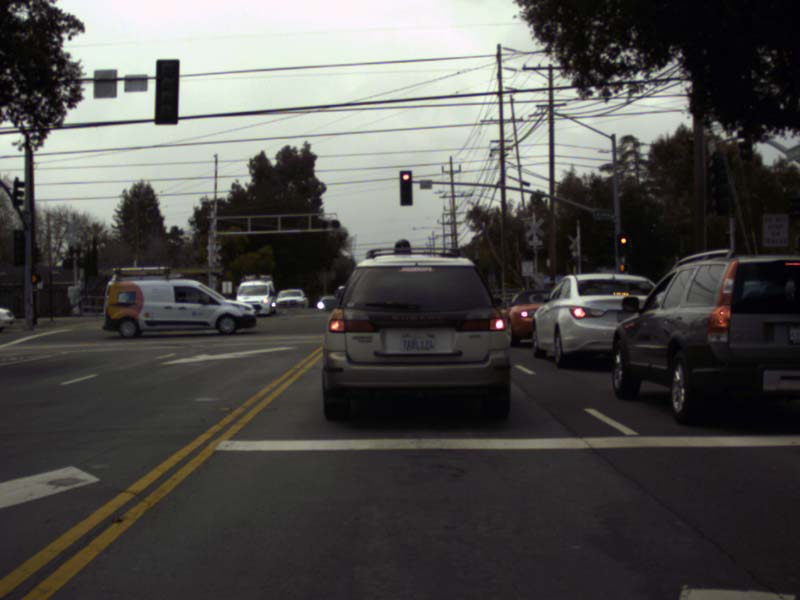Red: (399, 170, 413, 205), (617, 234, 630, 256)
